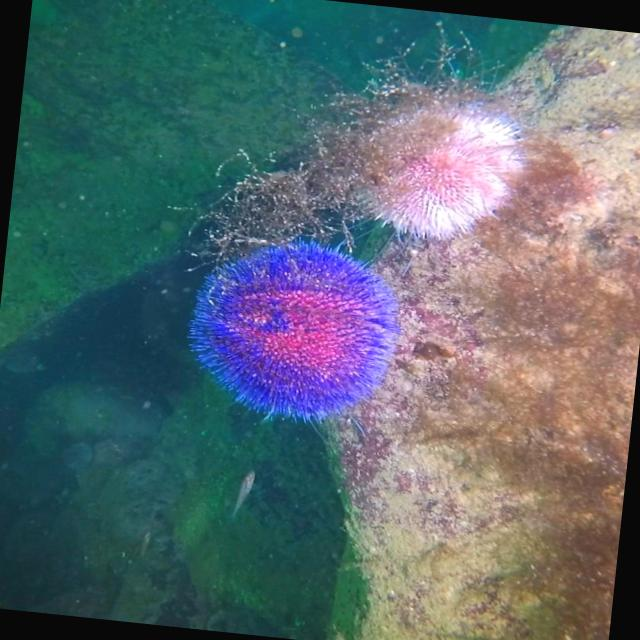Deniz Kestanesi: (325, 35, 536, 284), (180, 222, 408, 448)
